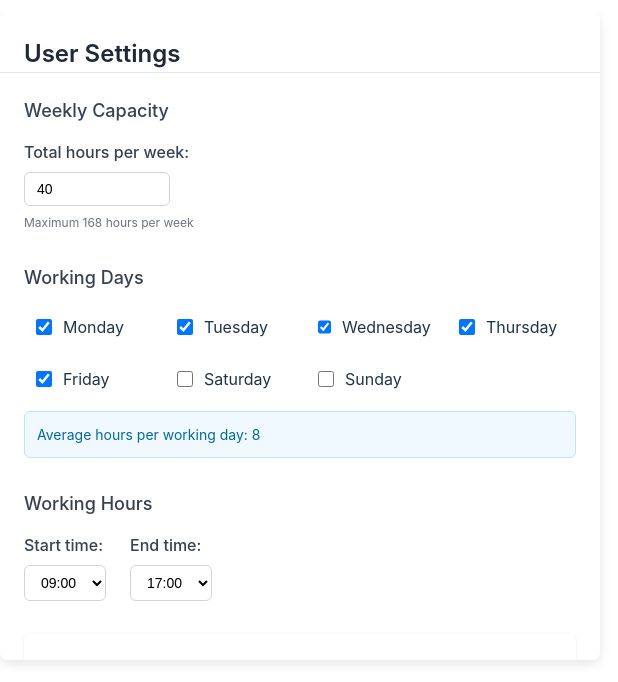
Test: UserSettings › enables save button when changes are made
Replace the text in the number field labelled "Total hours per week:" with "45" at (97, 189), box [24, 172, 170, 206]
(page scrolled)
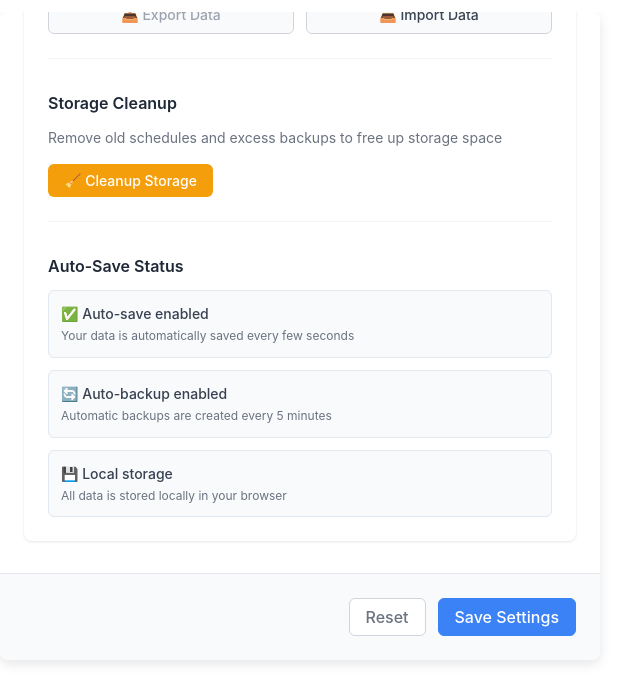
Expected: the button "Save Settings" is enabled, [438, 598, 576, 636]
